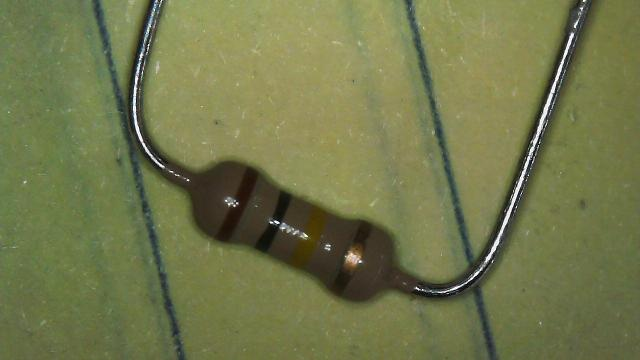black: (253, 190, 292, 250)
brown: (219, 172, 256, 237)
gold: (340, 217, 372, 292)
resistor: (143, 124, 440, 341)
yellow: (294, 209, 328, 263)
